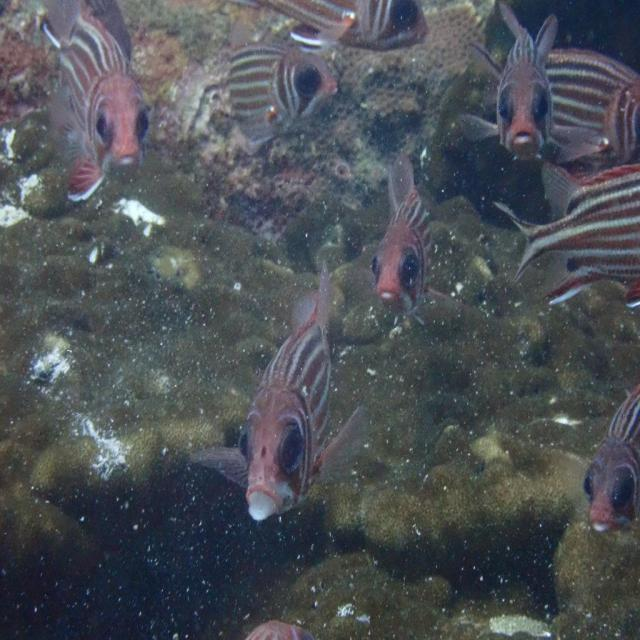Asker Baligi: (235, 258, 368, 522), (38, 2, 151, 203)
